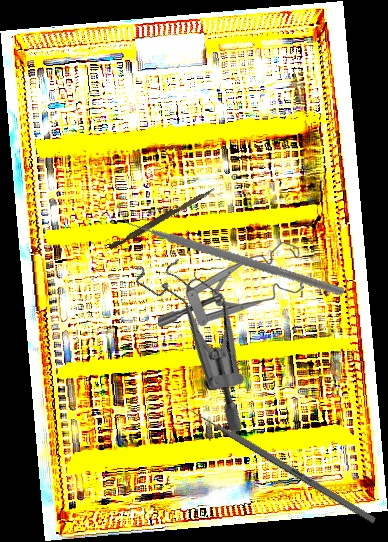Chopper: (115, 154, 346, 344)
Pusher: (177, 399, 377, 525), (108, 183, 216, 253)
Speculum: (89, 238, 302, 438), (158, 242, 304, 328)
